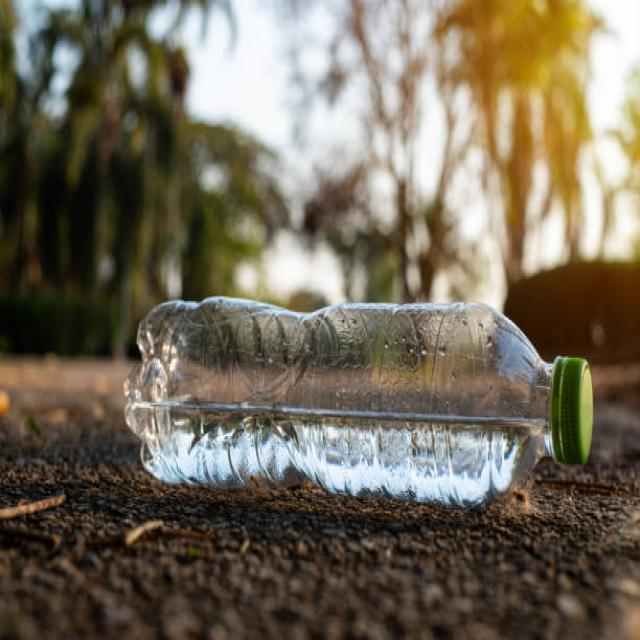bottle: (121, 295, 594, 506)
